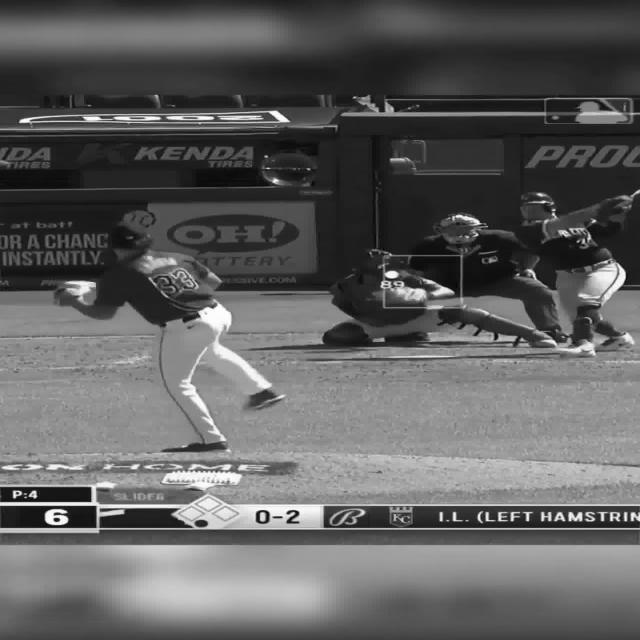baseball_glove: (52, 280, 98, 307)
shoe: (244, 386, 285, 409), (552, 339, 596, 358), (595, 331, 634, 351), (161, 441, 228, 452), (384, 331, 430, 342), (540, 328, 570, 342), (528, 333, 556, 347)
